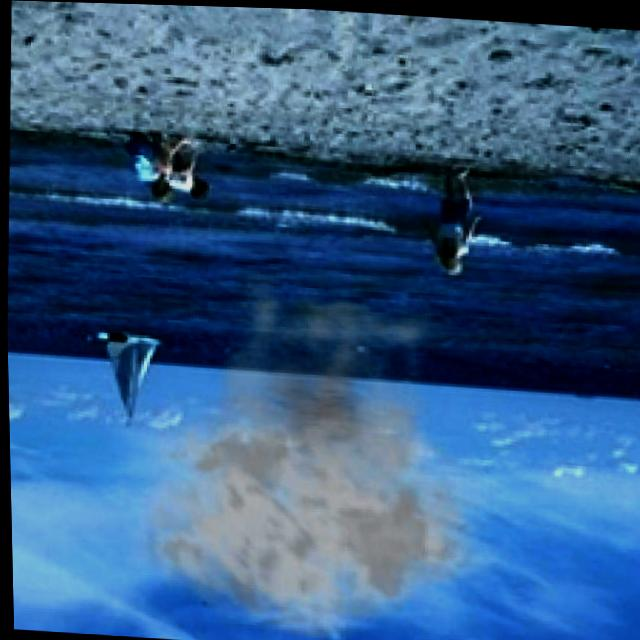no_helmet: (120, 247, 510, 640)
